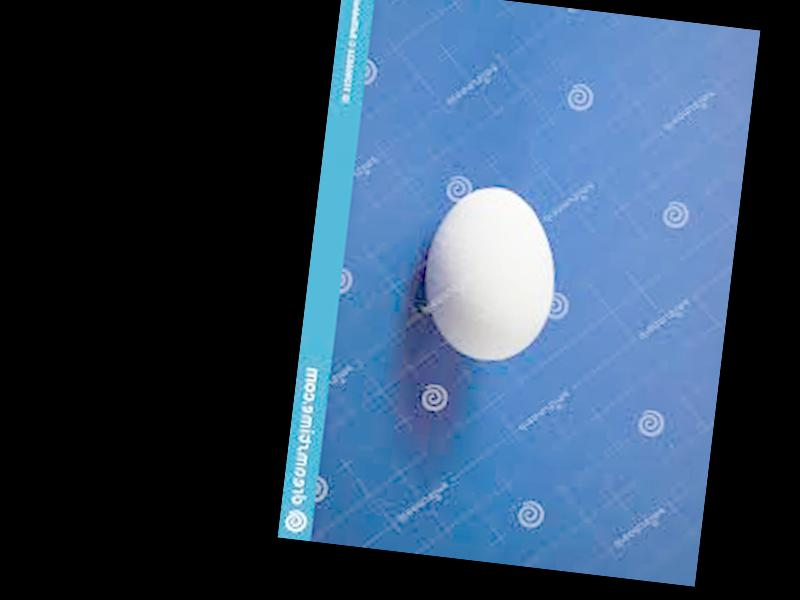Eggs: (416, 179, 563, 367)
